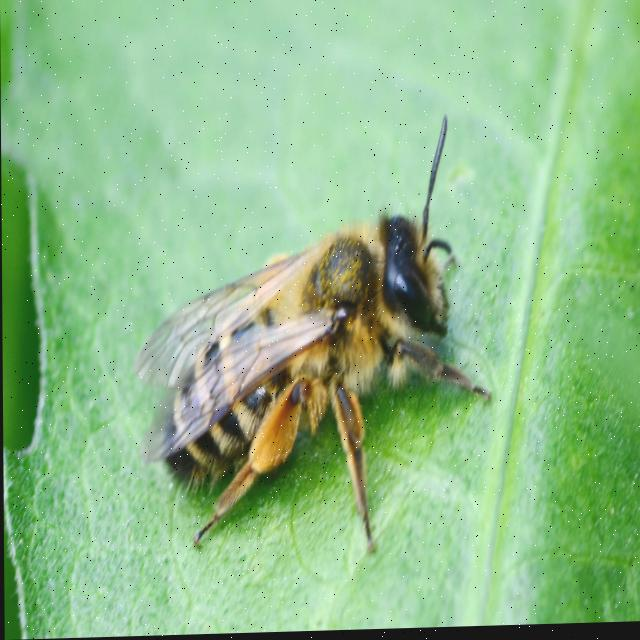Apis-mellifera-scutellata: (113, 91, 501, 586)
